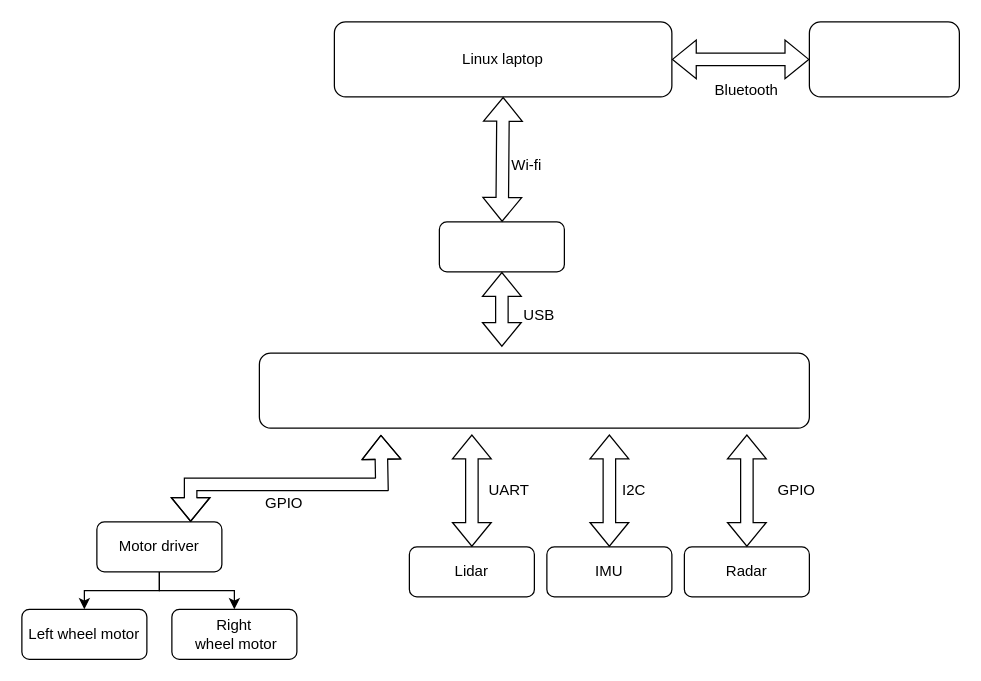
Some shapes in this 981 by 681 pixel diagram are drawn without their labels. The shapes that lost their labels are listed below. From the top down, each one's centre as x and y in pixels, then its label:
At pixel 883 59: "PS4 controller".
At pixel 501 246: "Wi-fi module".
At pixel 533 390: "Beaglebone Black".
